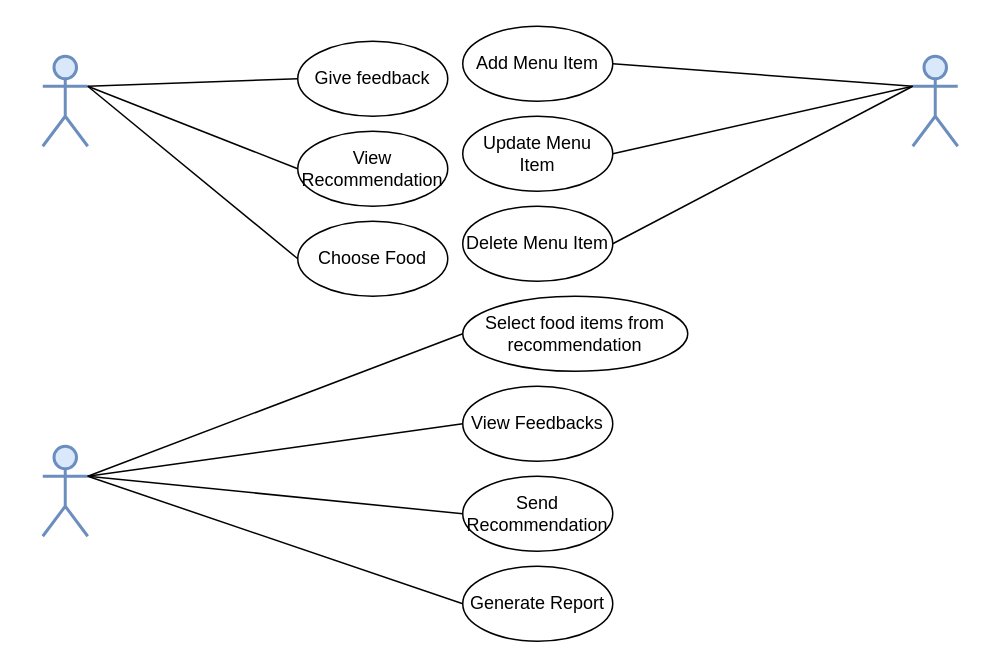
Some shapes in this 987 by 668 pixel diagram are drawn without their labels. The centre of each missing label's shape, as x and y in pixels:
Admin: (x=934, y=100)
Chef: (x=64, y=490)
Employee: (x=64, y=100)
